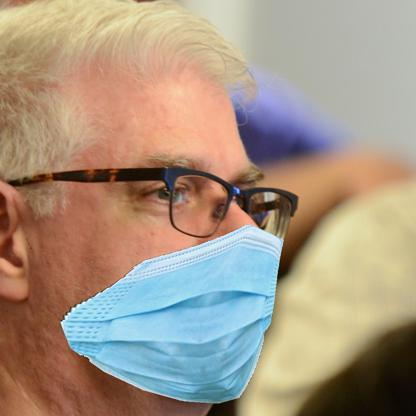mask: (57, 222, 285, 407)
